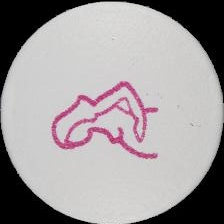55494-100: (0, 0, 224, 224)
